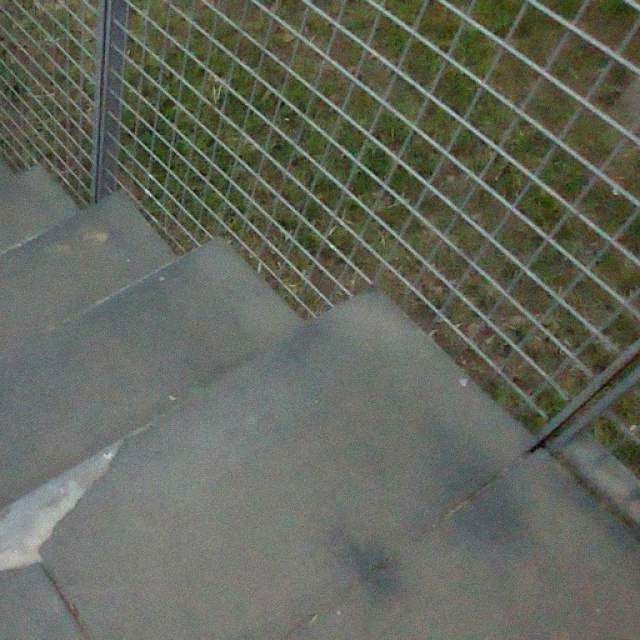stair: (15, 195, 352, 574)
